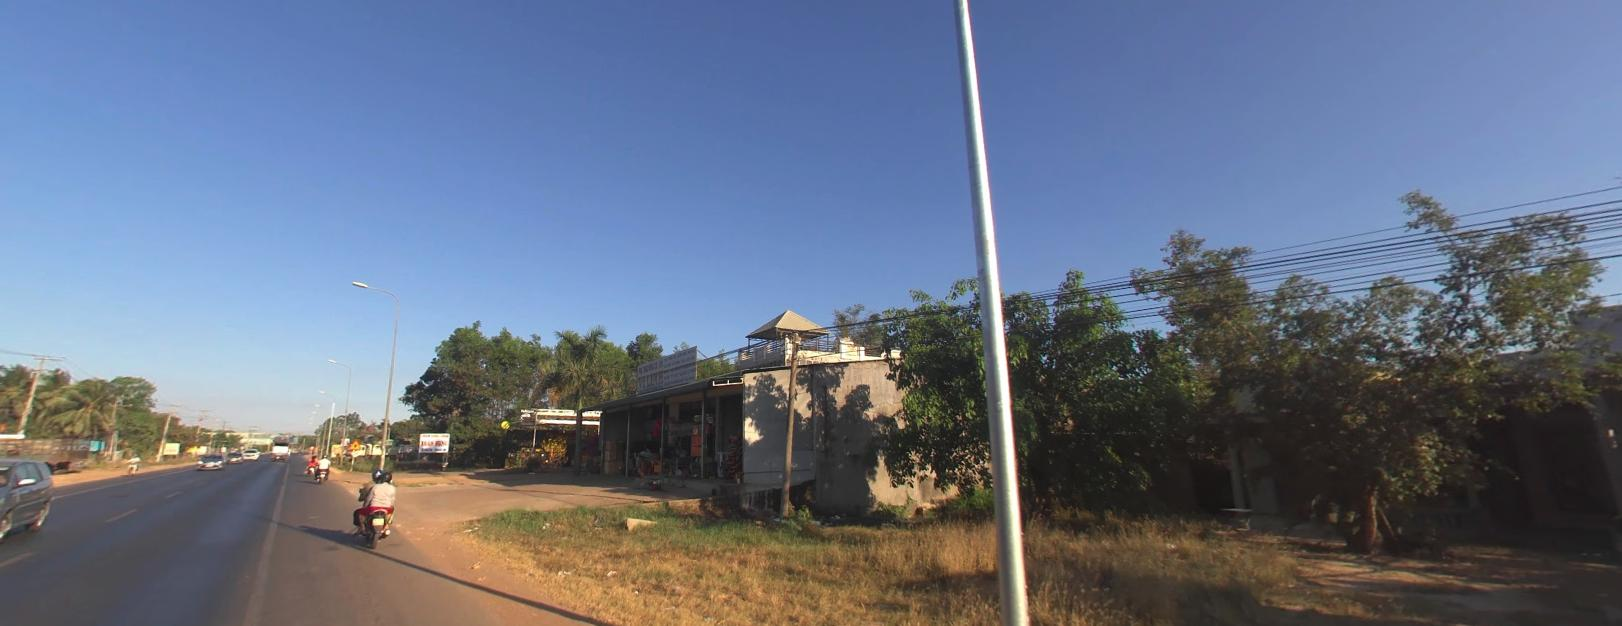Nguy hiem: (347, 437, 361, 449), (347, 437, 360, 448)
